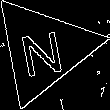N_N: (18, 21, 69, 77)
